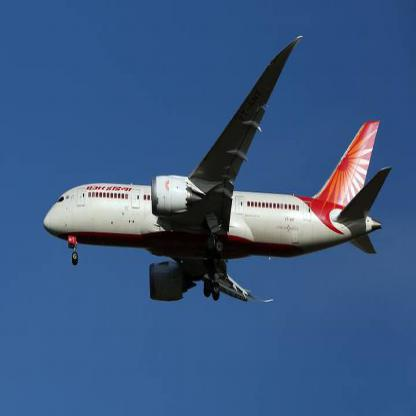CIV_Plane: (44, 32, 392, 304)
